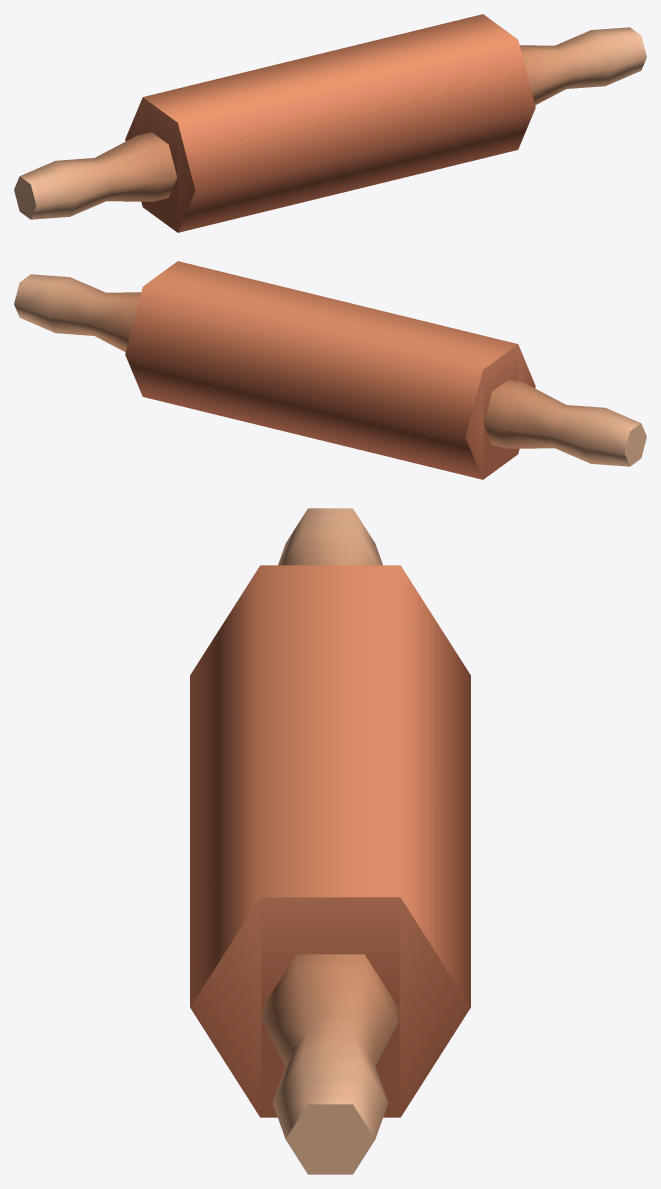
File: rolling-pin.glb
3 views of the same model, one above another, from view 1: azimuth 30°, elevation 25°; view 2: azimuth 150°, elevation 25°; view 3: azimuth 270°, elevation 25° (orthographic). The views are drawn at different scales.
Parts seen in each view (by area): view 1: rollingPin; view 2: rollingPin; view 3: rollingPin.
Boxes of the visible parts, left/top/right/bottom form: rollingPin: left=14, top=14, right=646, bottom=232; rollingPin: left=14, top=261, right=646, bottom=479; rollingPin: left=190, top=508, right=470, bottom=1174.
Size of the model in its own units: 0.8137 by 0.1402 by 0.162.
1 material, 1 textured.
